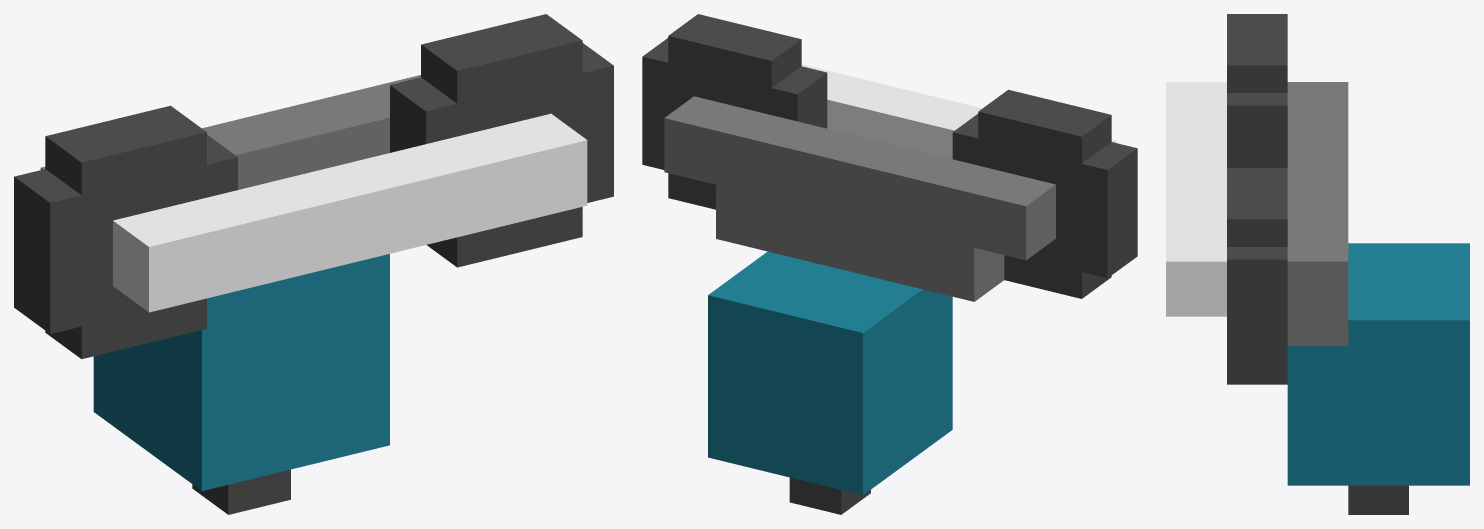
The model's file is printer 2 extruder.obj.
The picture shows the model from 3 angles, left to right: view 1: azimuth 30°, elevation 25°; view 2: azimuth 150°, elevation 25°; view 3: azimuth 270°, elevation 25°; orthographic projection. The views are drawn at different scales.
Size of the model in its own units: 1.8 by 1.4 by 1.
